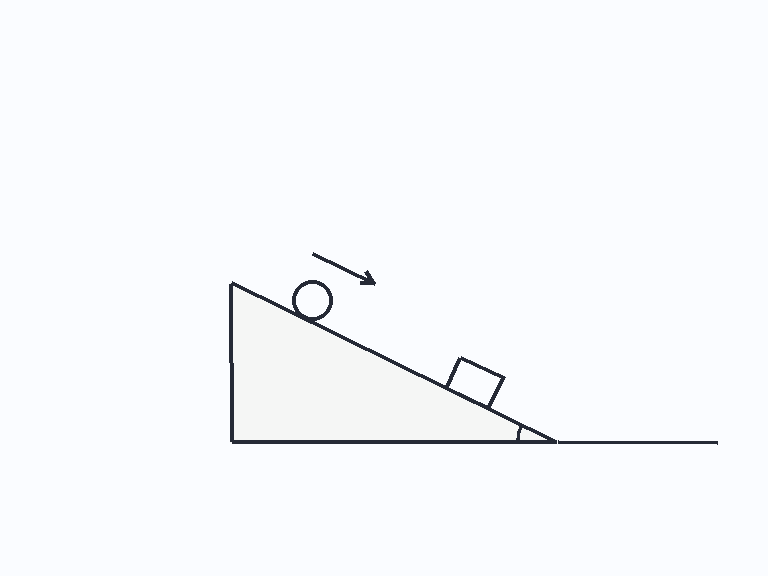ball: (290, 278, 334, 322)
block: (444, 355, 504, 410)
ramp: (229, 281, 559, 444)
